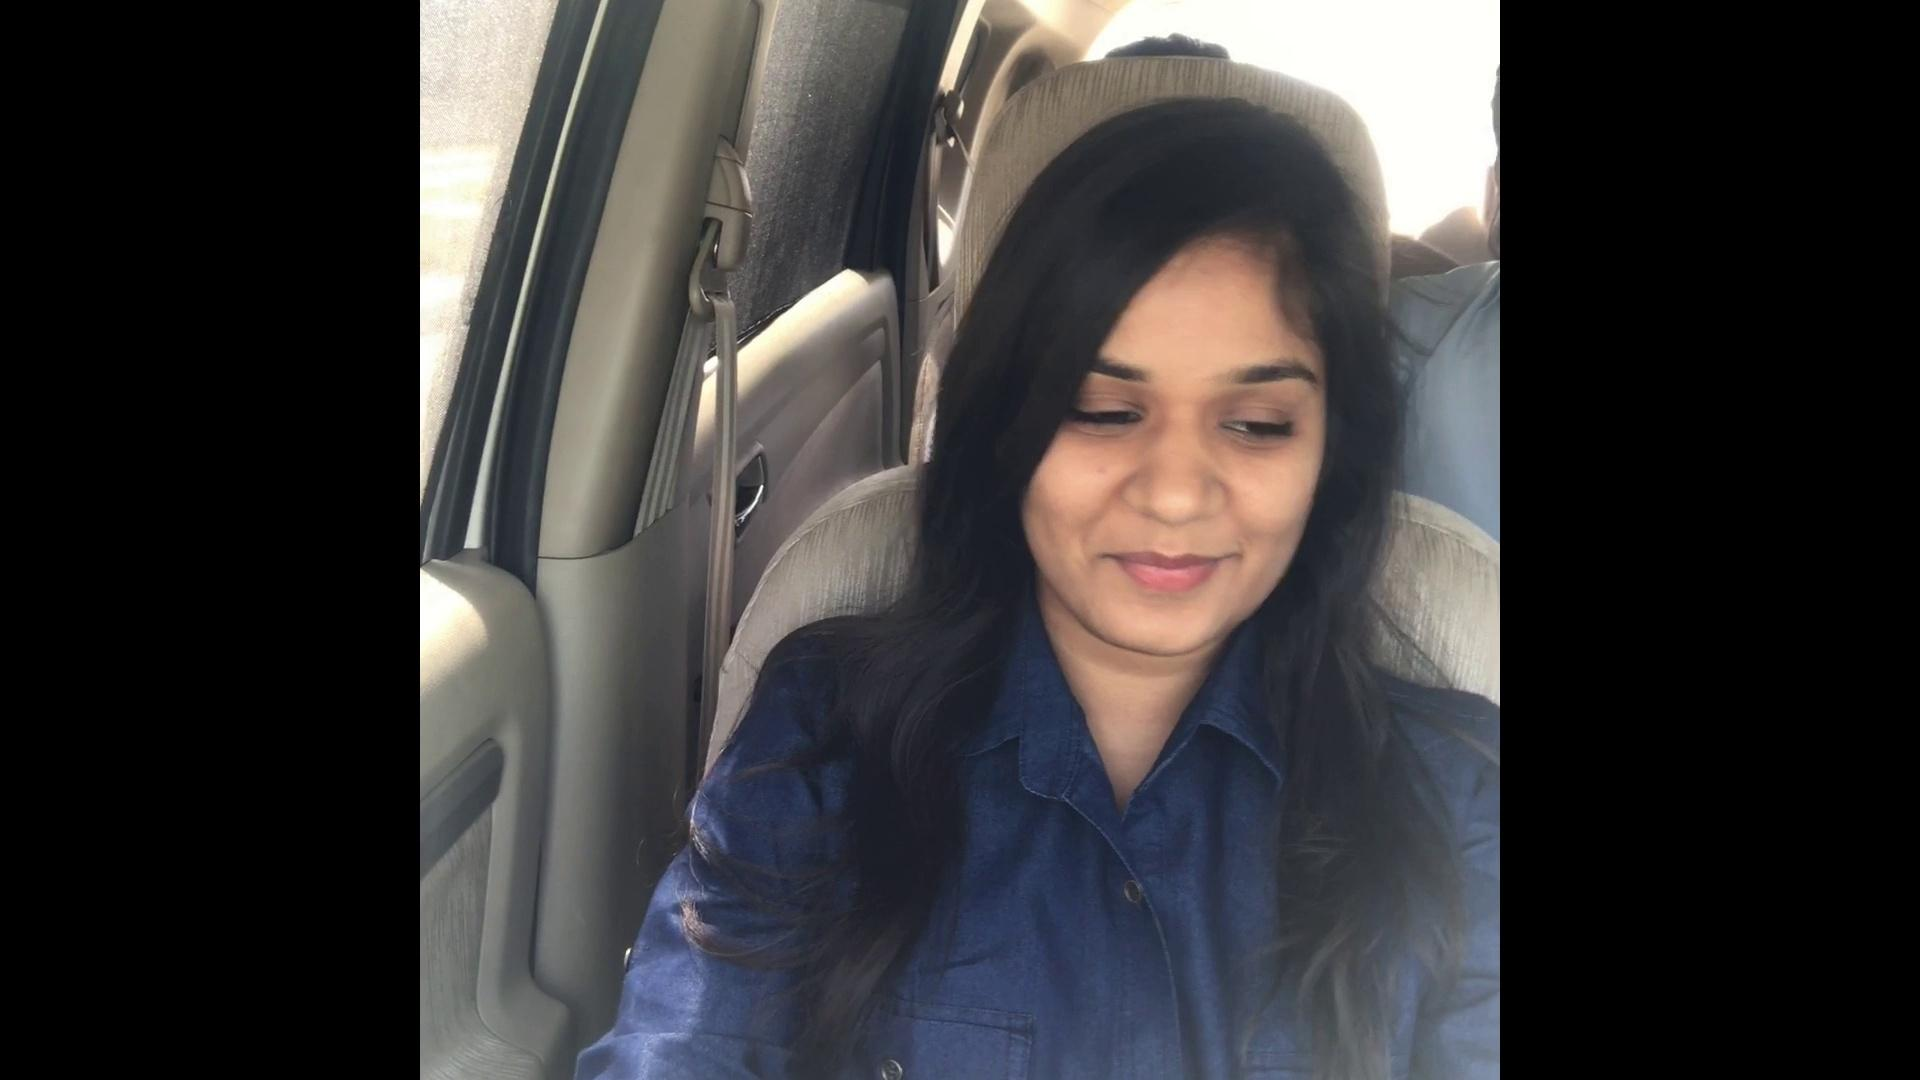Neutral: (928, 214, 1429, 682)
